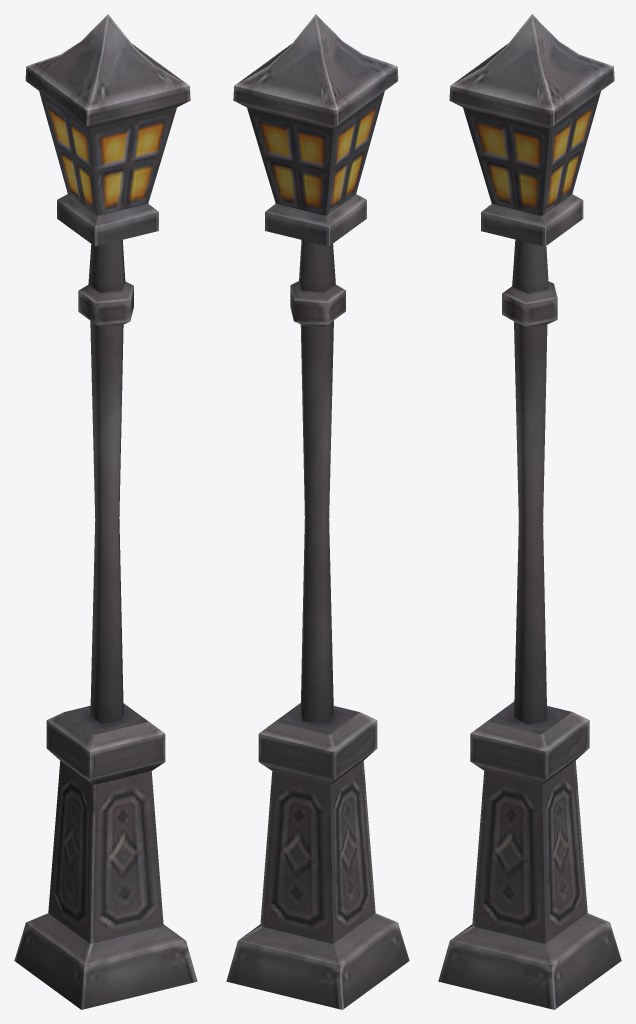
File: street_light_1.FBX
3 views of the same model, side by side, from view 1: azimuth 30°, elevation 25°; view 2: azimuth 150°, elevation 25°; view 3: azimuth 330°, elevation 25° (orthographic).
Visible parts, largest first — view 1: street_light_1; view 2: street_light_1; view 3: street_light_1.
Part boxes in pixels (<box>): street_light_1: <box>14,14,197,1009</box>; street_light_1: <box>226,14,409,1009</box>; street_light_1: <box>438,14,621,1009</box>.
Bounding box in the file's own units: 12.41 × 97.65 × 12.41.
